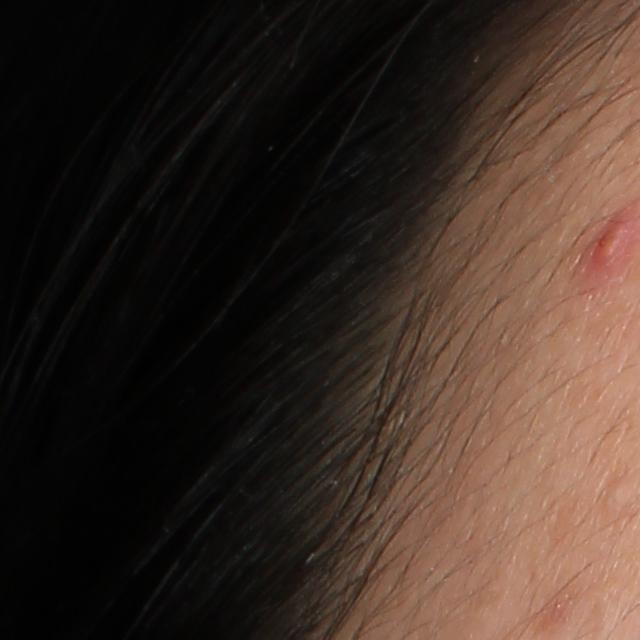comedo: (599, 476, 627, 507)
